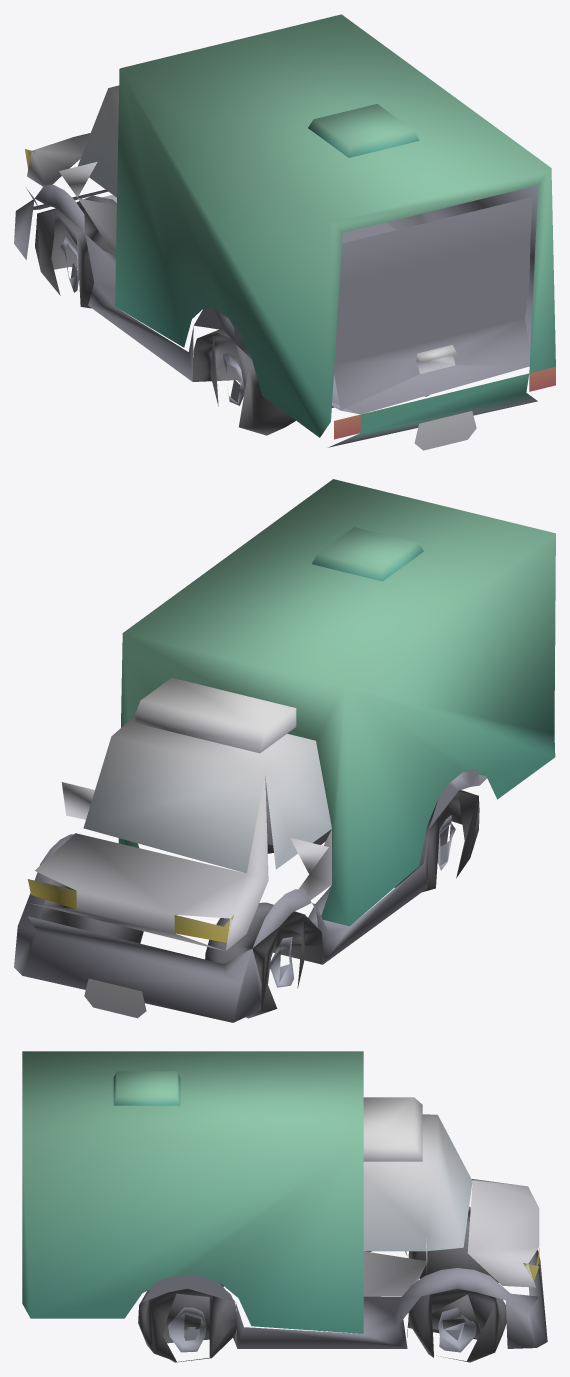
Rendered from car_delivery_lod1.glb.
The picture shows the model from 3 angles, top to bottom: view 1: azimuth 30°, elevation 25°; view 2: azimuth 150°, elevation 25°; view 3: azimuth 270°, elevation 25°; orthographic projection. The views are drawn at different scales.
Size of the model in its own units: 2.25 by 2.45 by 4.87.
